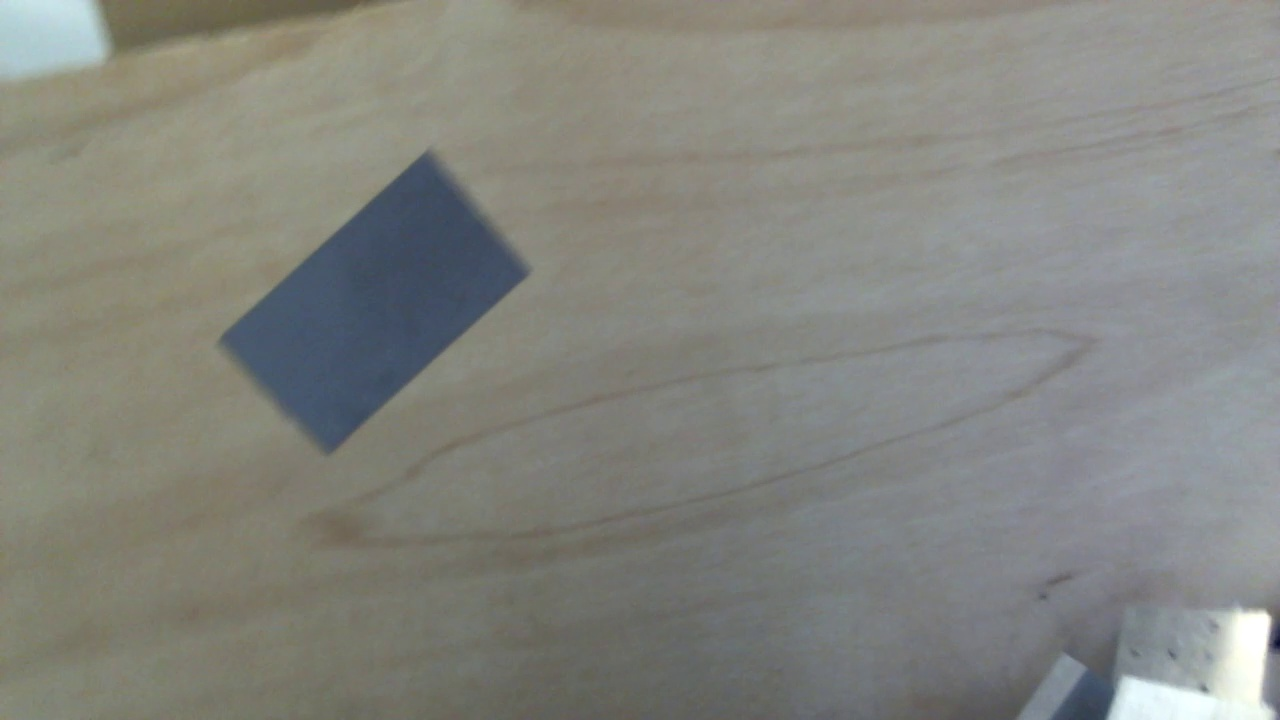Tape: (218, 150, 532, 457)
